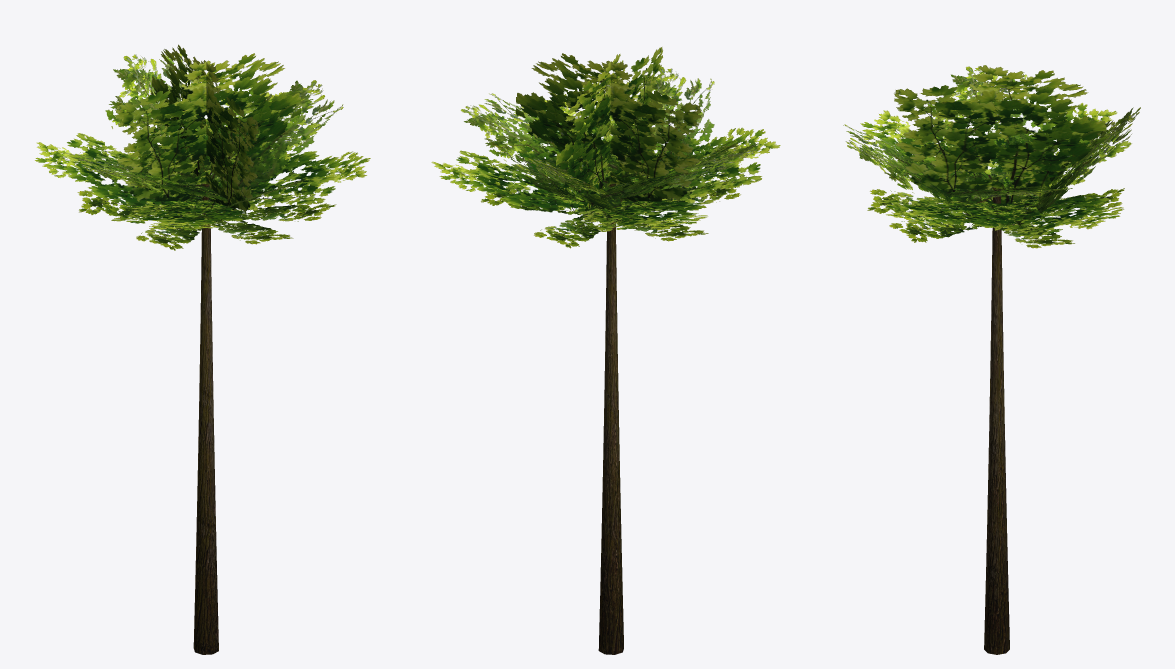
The model's file is hightree.obj.
The picture shows the model from 3 angles, left to right: view 1: azimuth 30°, elevation 25°; view 2: azimuth 150°, elevation 25°; view 3: azimuth 270°, elevation 25°; orthographic projection.
Visible parts, largest first — view 1: Cylinder01; view 2: Cylinder01; view 3: Cylinder01.
Part boxes in pixels (<box>): Cylinder01: <box>35,44,370,654</box>; Cylinder01: <box>431,47,780,654</box>; Cylinder01: <box>843,65,1140,654</box>.
Size of the model in its own units: 48.71 by 86.83 by 44.27.
Materials: 1 (1 with a texture image).
